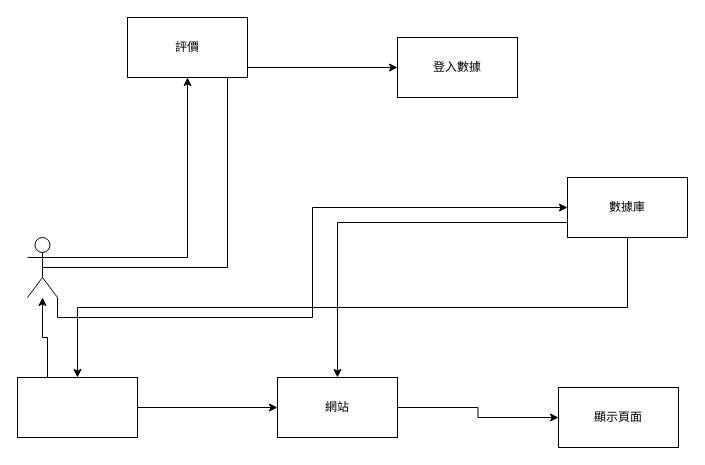
Image size: 705x465. Some labels were removed from this diagram. The box of each missing label's shape, as (x1, y1, x2, y2) in pixels:
介面: (16, 376, 138, 438)
客戶: (26, 236, 58, 298)
